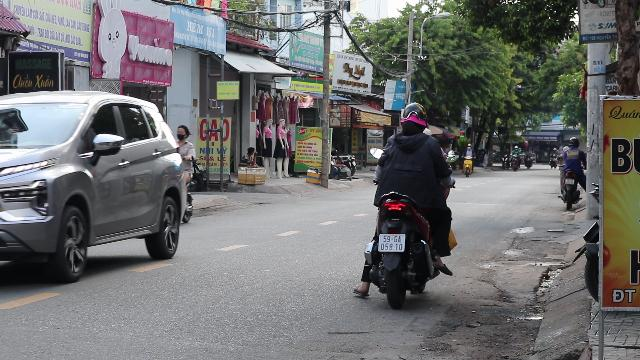helmet: (399, 103, 427, 135)
licenseplate: (379, 233, 405, 251)
motorcyclist: (358, 100, 458, 308)
